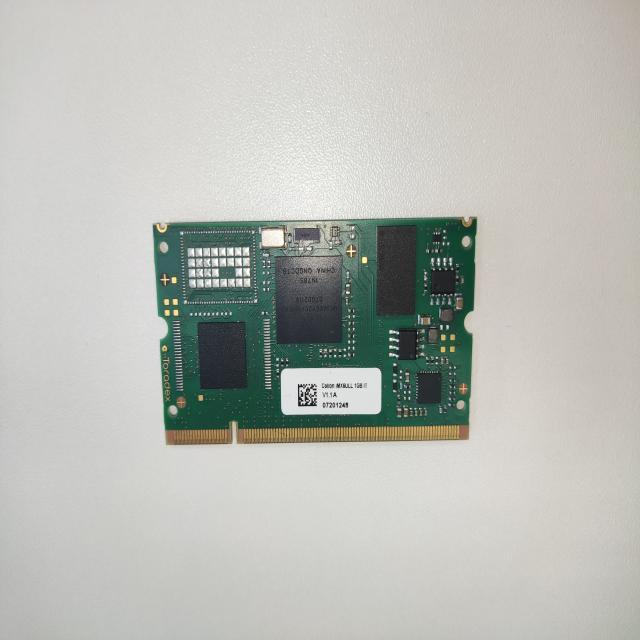som: (138, 210, 494, 459)
